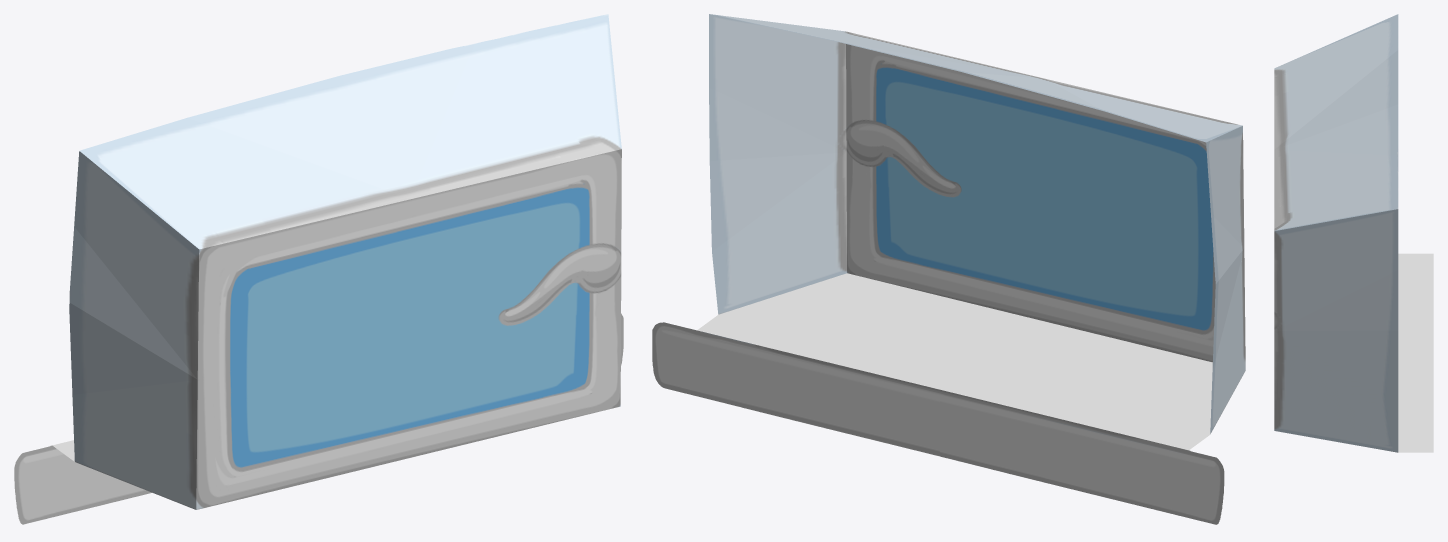
The model's file is Window_1.fbx.
The picture shows the model from 3 angles, left to right: view 1: azimuth 30°, elevation 25°; view 2: azimuth 150°, elevation 25°; view 3: azimuth 270°, elevation 25°; orthographic projection. The views are drawn at different scales.
Visible parts, largest first — view 1: Window_1; view 2: Window_1; view 3: Window_1.
Part boxes in pixels (x1,y1,x2,y2): Window_1: [14, 14, 623, 524]; Window_1: [652, 14, 1245, 524]; Window_1: [1274, 14, 1433, 452].
Size of the model in its own units: 89.22 by 55.3 by 25.96.
